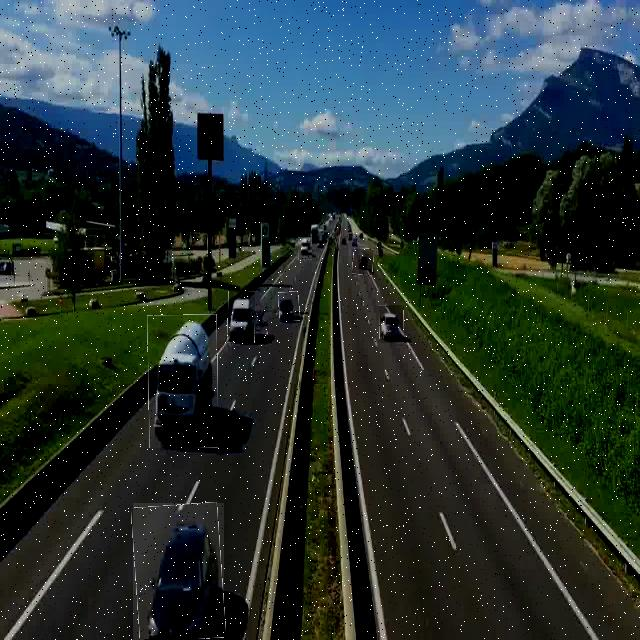Car: (133, 503, 224, 640), (228, 291, 255, 343), (379, 305, 404, 343), (279, 292, 300, 321), (352, 249, 374, 275), (298, 238, 312, 262)
Truck: (148, 315, 217, 448)
